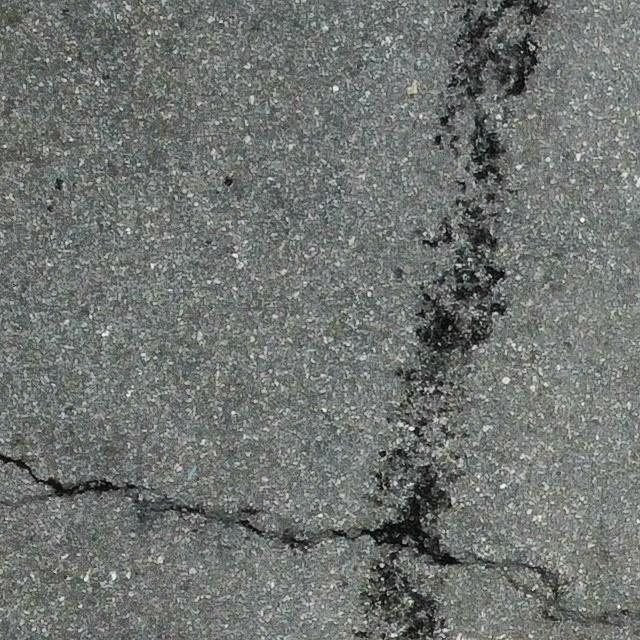TransverseCrack: (1, 452, 633, 627)
